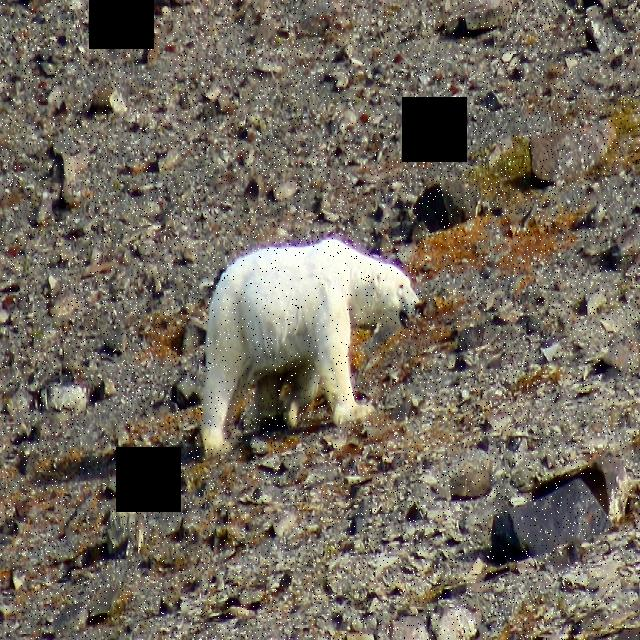Bear: (186, 229, 429, 426)
